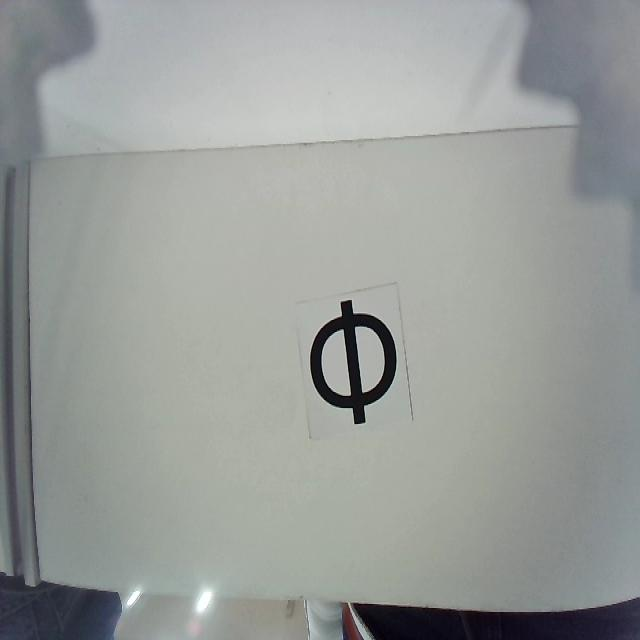F: (309, 297, 399, 428)
